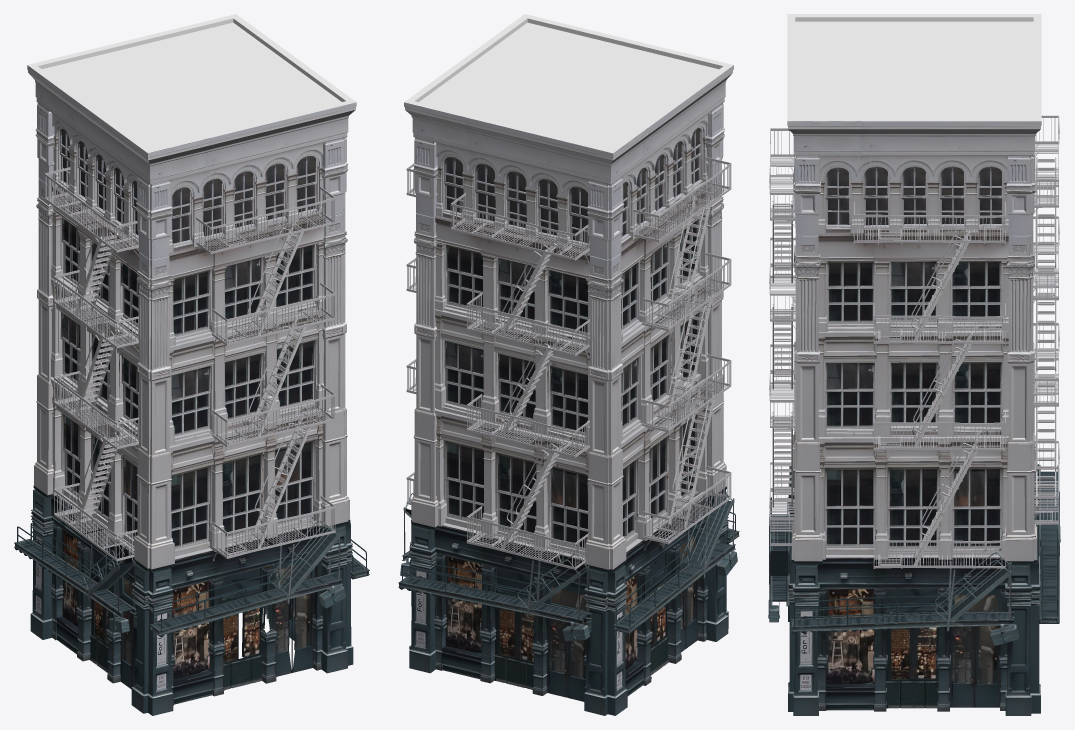
File: volt_building.glb
The picture shows the model from 3 angles, left to right: view 1: azimuth 30°, elevation 25°; view 2: azimuth 150°, elevation 25°; view 3: azimuth 270°, elevation 25°; orthographic projection. The views are drawn at different scales.
Visible parts, largest first — view 1: Cattura-gigapixel-scale-2_00x.003_Building_6_0.001; view 2: Cattura-gigapixel-scale-2_00x.003_Building_6_0.001; view 3: Cattura-gigapixel-scale-2_00x.003_Building_6_0.001.
Part boxes in pixels (left/top/right/bottom): Cattura-gigapixel-scale-2_00x.003_Building_6_0.001: left=14, top=14, right=369, bottom=715; Cattura-gigapixel-scale-2_00x.003_Building_6_0.001: left=398, top=14, right=739, bottom=715; Cattura-gigapixel-scale-2_00x.003_Building_6_0.001: left=768, top=14, right=1060, bottom=715.
Size of the model in its own units: 7.11 by 15.95 by 7.11.
Materials: 4 (4 with a texture image).
